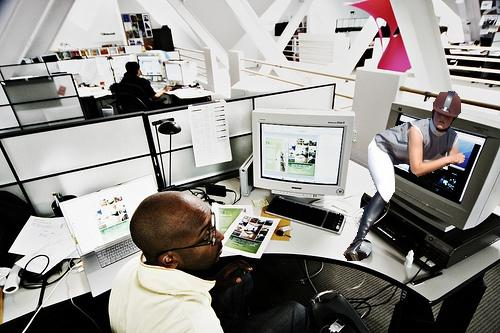tampered: (344, 92, 465, 261)
